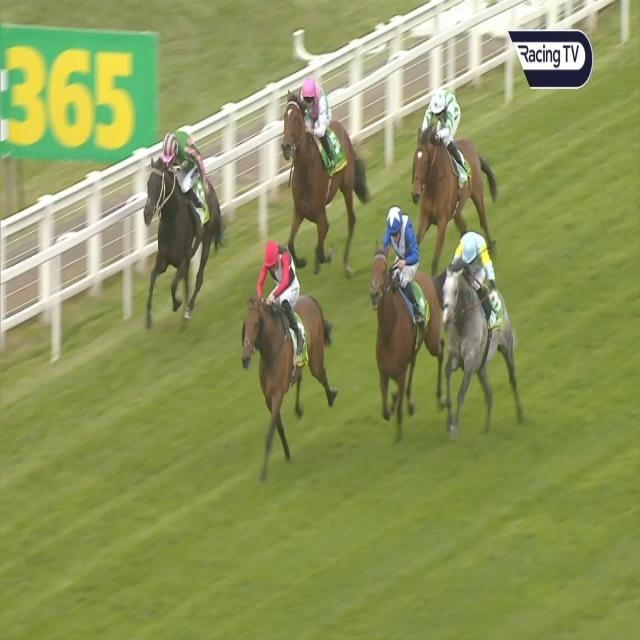horses-racing: (245, 236, 342, 455), (274, 70, 366, 256), (371, 203, 436, 427), (441, 221, 511, 423), (147, 129, 218, 299), (407, 90, 489, 232)
